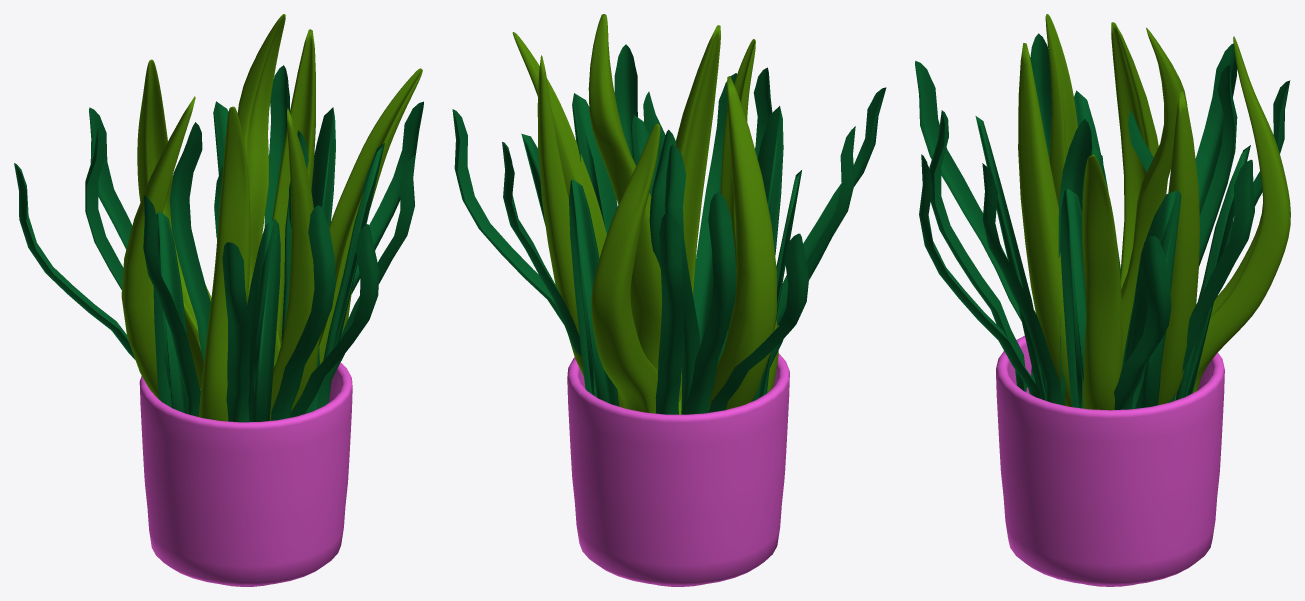
File: SM_Plant 2.fbx
3 views of the same model, side by side, from view 1: azimuth 30°, elevation 25°; view 2: azimuth 150°, elevation 25°; view 3: azimuth 270°, elevation 25° (orthographic). The views are drawn at different scales.
Parts seen in each view (by area): view 1: Flower_Pot, Cube.006, Cube, Cube.001, Cube.005, Cube.007, Cube.002, Plane, Plane.012, Cube.003, Cube.004, Plane.002 (+13 smaller); view 2: Flower_Pot, Cube, Cube.003, Cube.005, Cube.001, Cube.004, Plane.008, Cube.010, Plane.006, Plane.010, Plane.012, Plane.001 (+14 smaller); view 3: Flower_Pot, Cube.001, Cube.003, Cube.002, Cube.004, Cube, Cube.005, Cube.008, Cube.011, Plane.005, Plane.002, Plane.007 (+13 smaller).
Boxes of the visible parts, x1,y1,x2,y2 form: Flower_Pot: (139,362,352,586); Cube.006: (199,106,250,421); Cube: (121,96,200,398); Cube.001: (269,108,319,420); Cube.005: (237,14,285,367); Cube.007: (247,219,280,421); Cube.002: (319,68,422,379); Plane: (271,205,335,420); Plane.012: (169,122,210,361); Cube.003: (137,59,211,388); Cube.004: (272,29,315,345); Plane.002: (222,242,249,422); Flower_Pot: (567,353,789,586); Cube: (709,76,776,411); Cube.003: (591,124,660,413); Cube.005: (588,14,681,402); Cube.001: (676,25,720,411); Cube.004: (537,55,681,414); Plane.008: (686,192,736,414); Cube.010: (569,179,618,406); Plane.006: (655,213,684,414); Plane.010: (709,233,808,412); Plane.012: (664,144,700,414); Plane.001: (693,73,736,345); Flower_Pot: (996,335,1224,586); Cube.001: (1018,43,1071,406); Cube.003: (1175,36,1290,400); Cube.002: (1082,154,1122,410); Cube.004: (1158,91,1199,404); Cube: (1111,22,1158,289); Cube.005: (1121,27,1187,362); Cube.008: (1060,189,1086,408); Cube.011: (1122,190,1181,409); Plane.005: (1114,236,1171,409); Plane.002: (915,60,1035,383); Plane.007: (1168,159,1254,402).
Size of the model in its own units: 912 by 1233 by 747.
